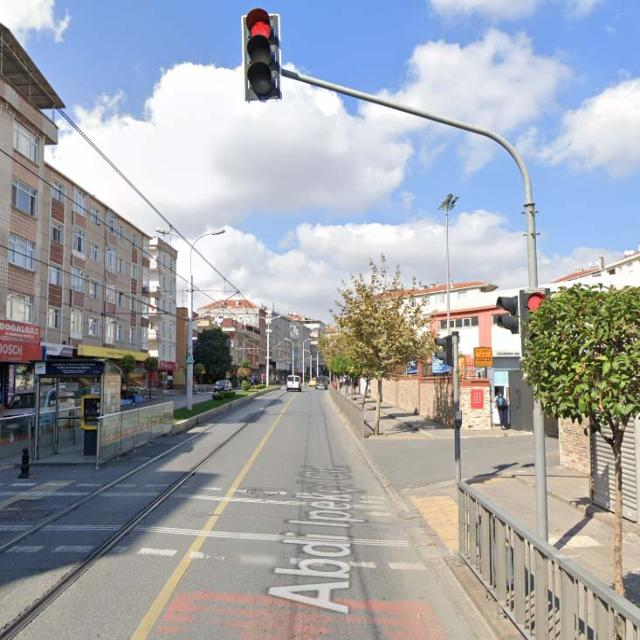kirmizi: (241, 12, 280, 99), (519, 286, 551, 374)
